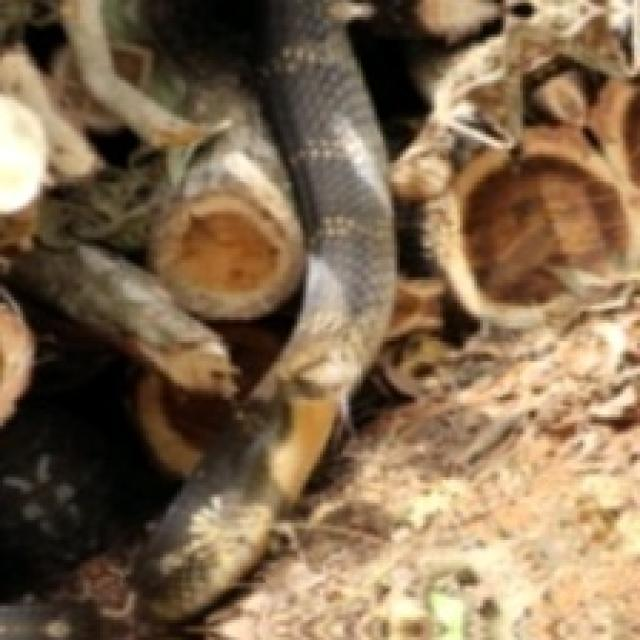king cobra: (137, 0, 394, 617)
